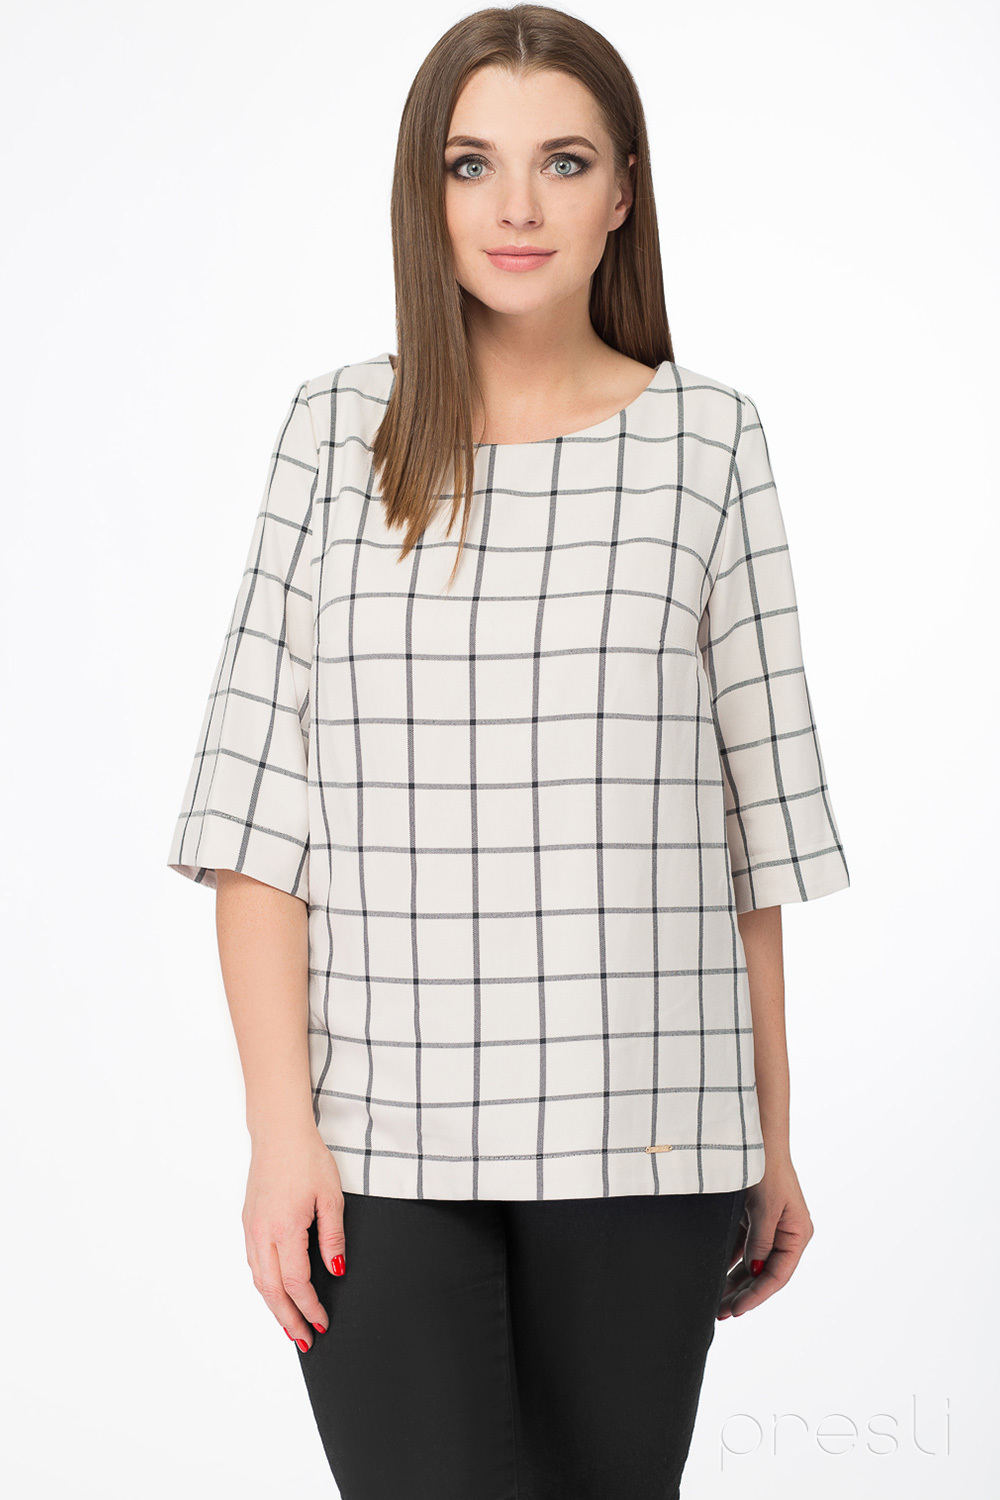squared: (148, 320, 872, 1220)
